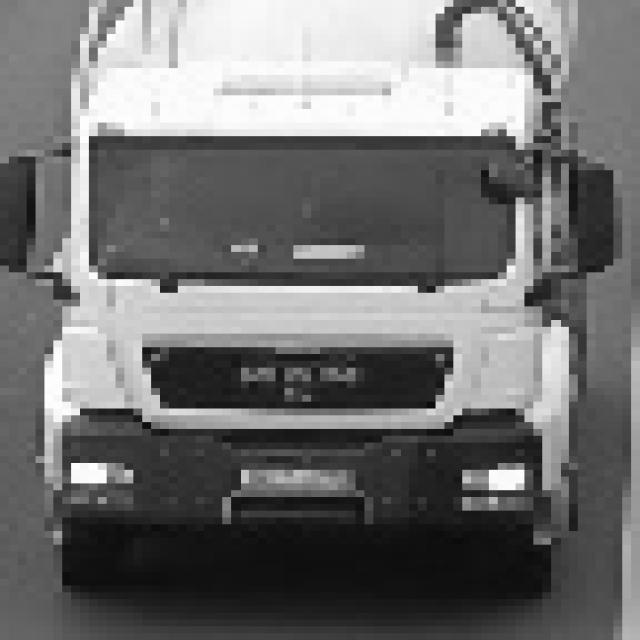truck: (0, 0, 613, 592)
